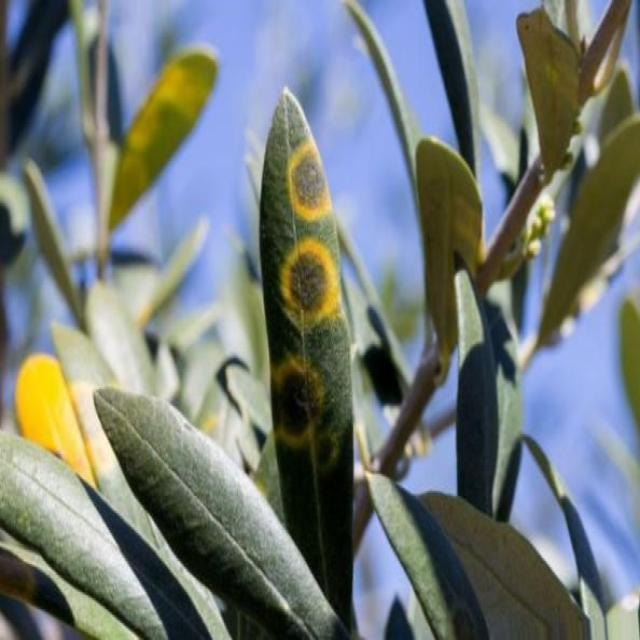OlivePeacockSpot: (260, 88, 352, 609)
